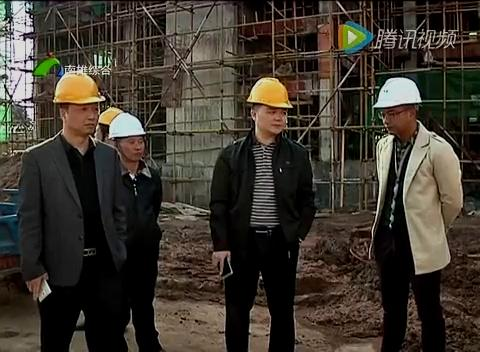helmet: (53, 69, 106, 143), (372, 73, 426, 142), (244, 75, 294, 140), (106, 111, 152, 165)
not_reflective: (15, 127, 125, 289), (363, 125, 468, 272), (207, 128, 319, 259), (114, 155, 166, 274)
